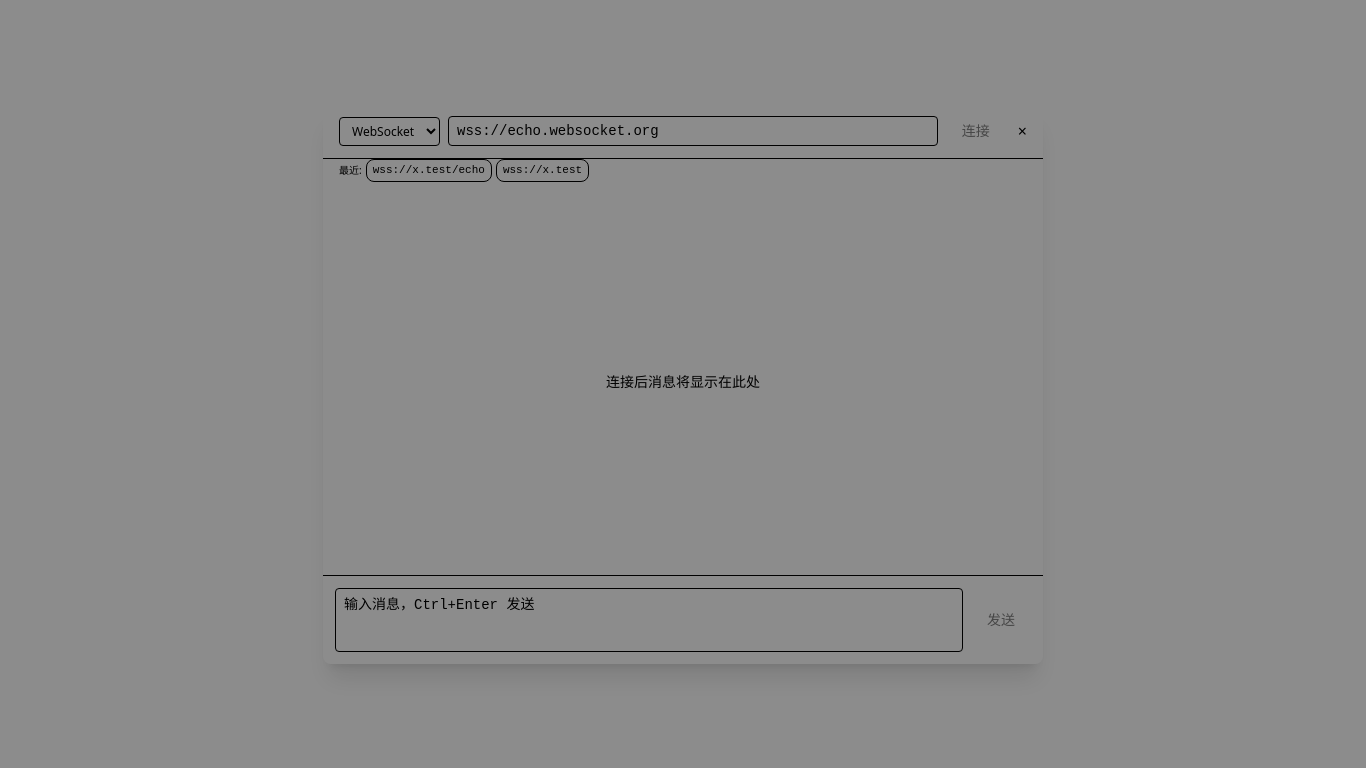
Scenario: WsPanel connect lifecycle › shows error and rolls back sessionId on connect failure
This screenshot has width=1366, height=768.
Type "wss://bad.test" into the field with placeholder "wss://echo.websocket.org" at x=693, y=131, box x1=448 y1=116 x2=938 y2=146
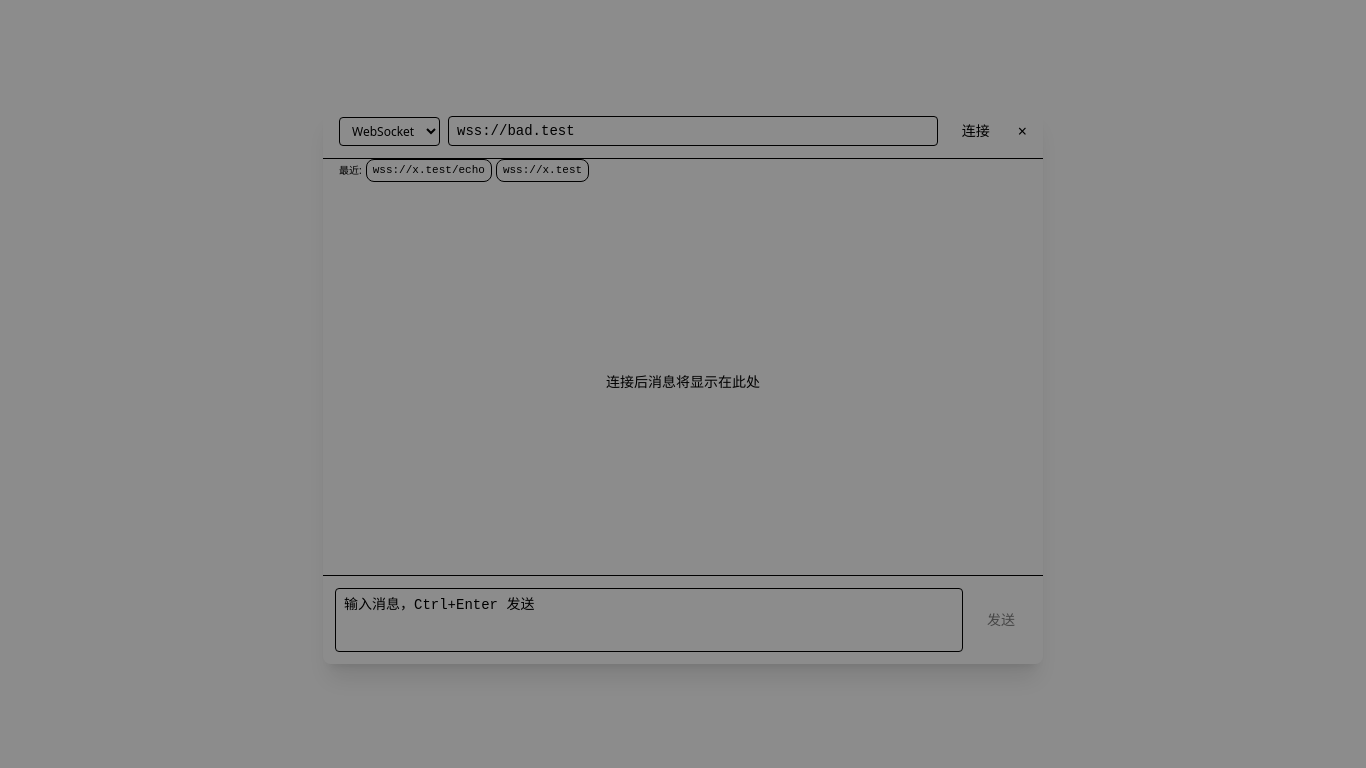
Click the button "连接" at x=976, y=131, box x1=946 y1=117 x2=1006 y2=145
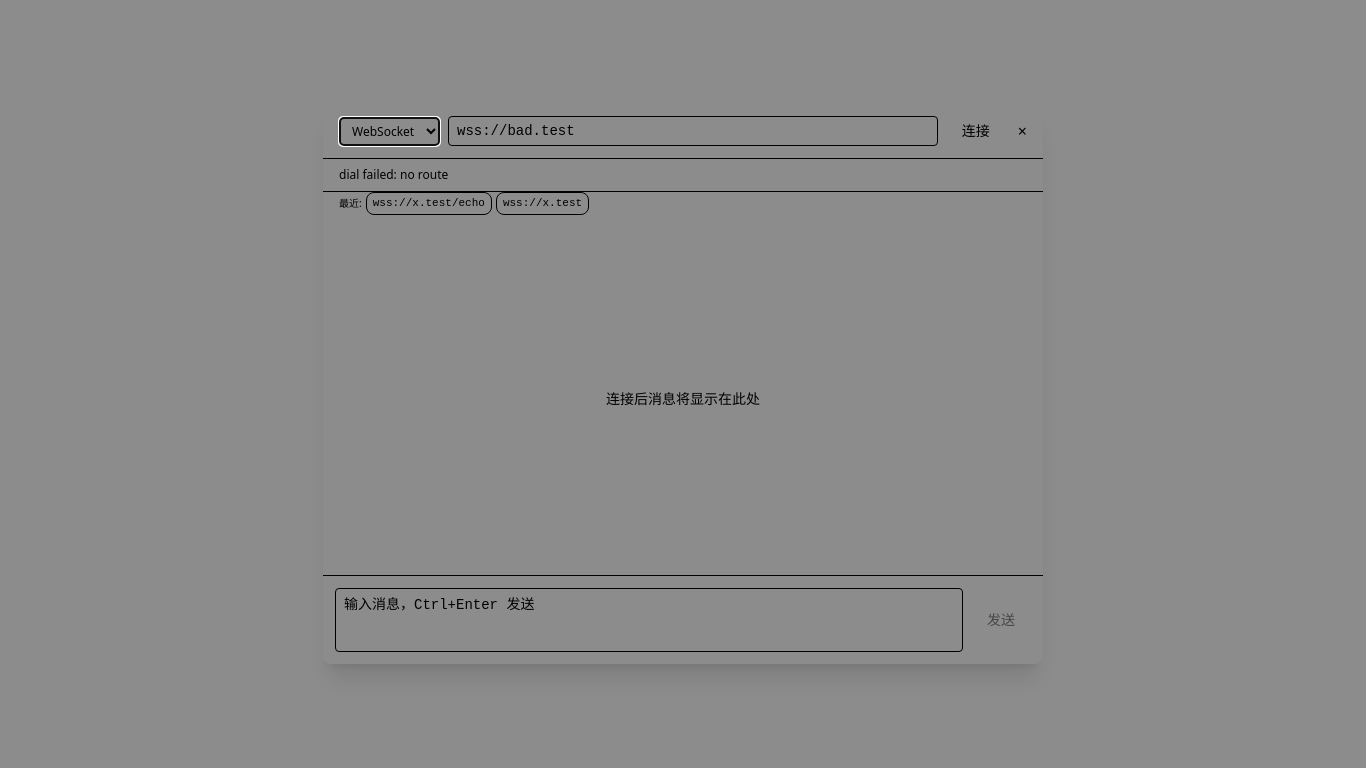
Result: the text "dial failed: no route" is shown at x1=323 y1=159 x2=1043 y2=192
